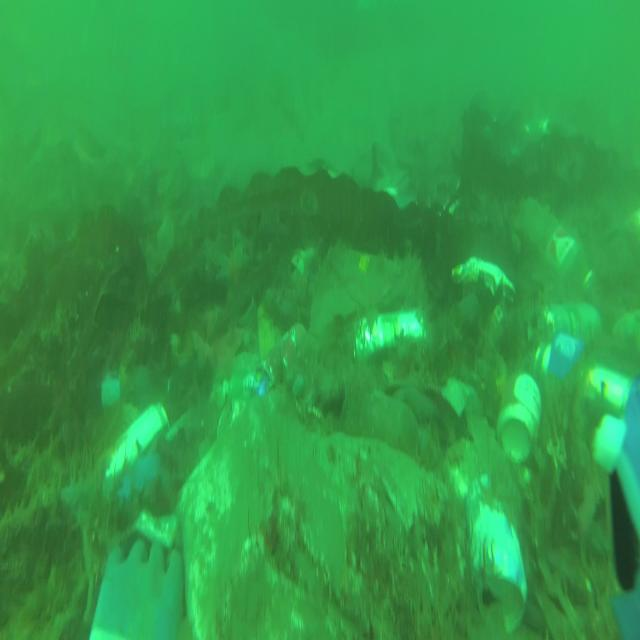holothurian: (0, 494, 42, 547), (266, 271, 308, 314)
starfish: (215, 242, 252, 290)
